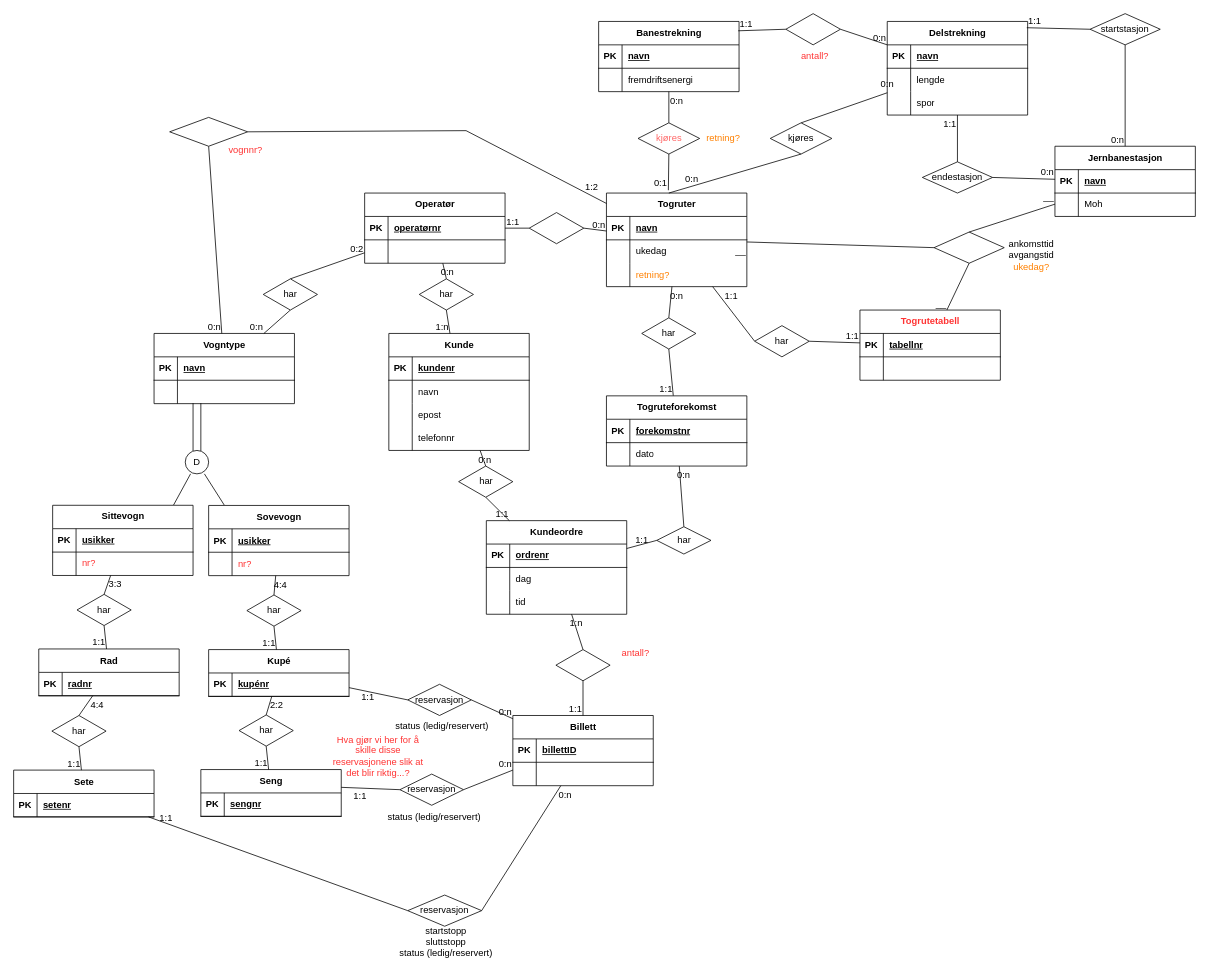
This 1209x972 diagram has some shape labels left out. Each missing label, with the centre of its shape:
består av: [812,29]
inneholder: [582,665]
stopp: [968,247]
tilhører: [556,228]
Vognoppsett: [208,131]
